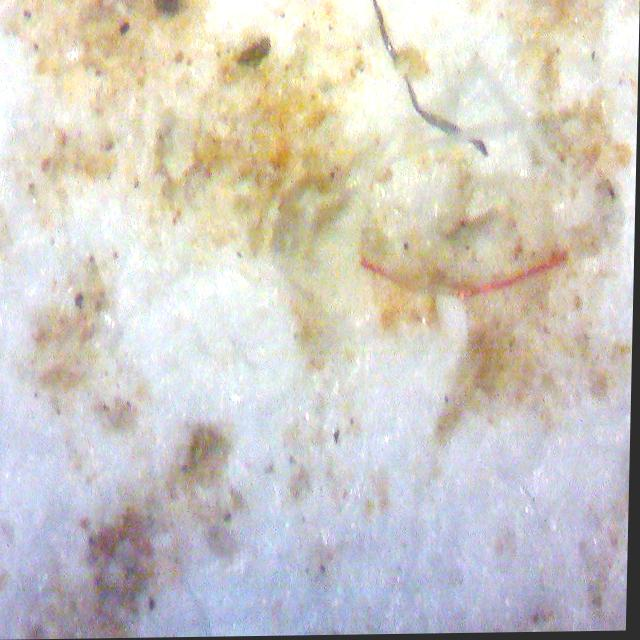microplastic: (367, 0, 489, 159), (357, 251, 567, 296)
